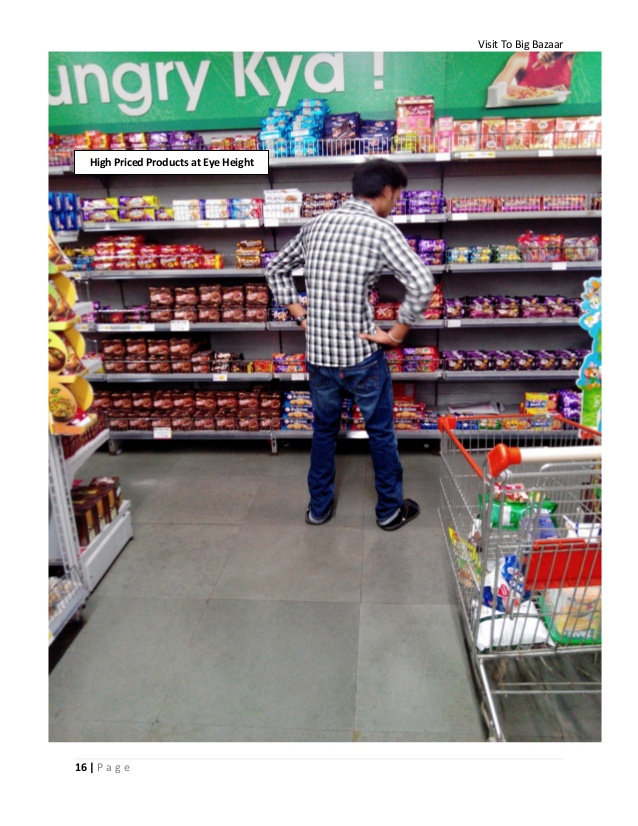Age_20_30: (359, 159, 408, 218)
E_White: (359, 159, 408, 218)
Emotion_Neutral: (359, 159, 408, 218)
G_Male: (359, 159, 408, 218)
